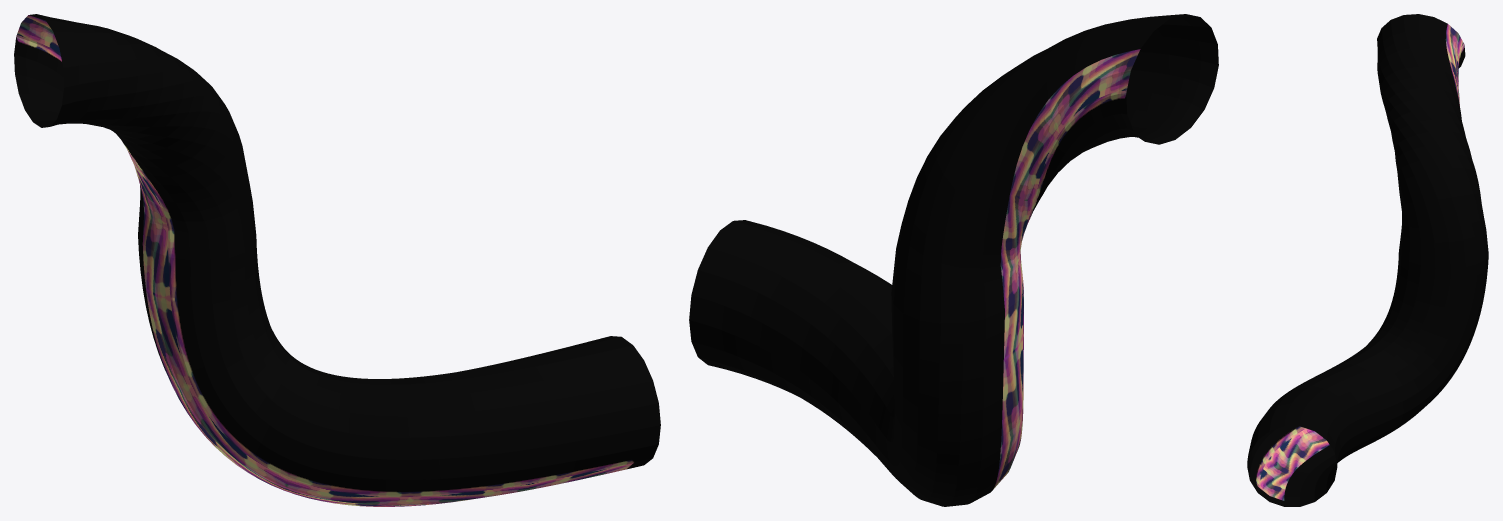
Rendered from PartofIntestineTunnel.fbx.
3 views of the same model, side by side, from view 1: azimuth 30°, elevation 25°; view 2: azimuth 150°, elevation 25°; view 3: azimuth 270°, elevation 25° (orthographic). The views are drawn at different scales.
Visible parts, largest first — view 1: Connection part; view 2: Connection part; view 3: Connection part.
Part boxes in pixels (x1,y1,x2,y2): Connection part: [14, 14, 660, 506]; Connection part: [689, 14, 1218, 506]; Connection part: [1247, 14, 1488, 506].
Size of the model in its own units: 2654 by 2569 by 1636.
